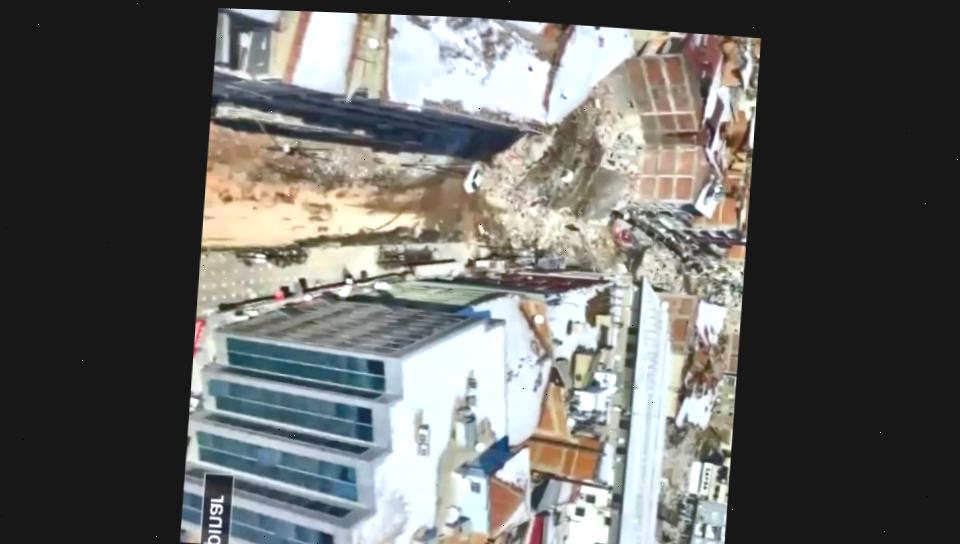kapali: (424, 151, 614, 262), (628, 225, 743, 315)
